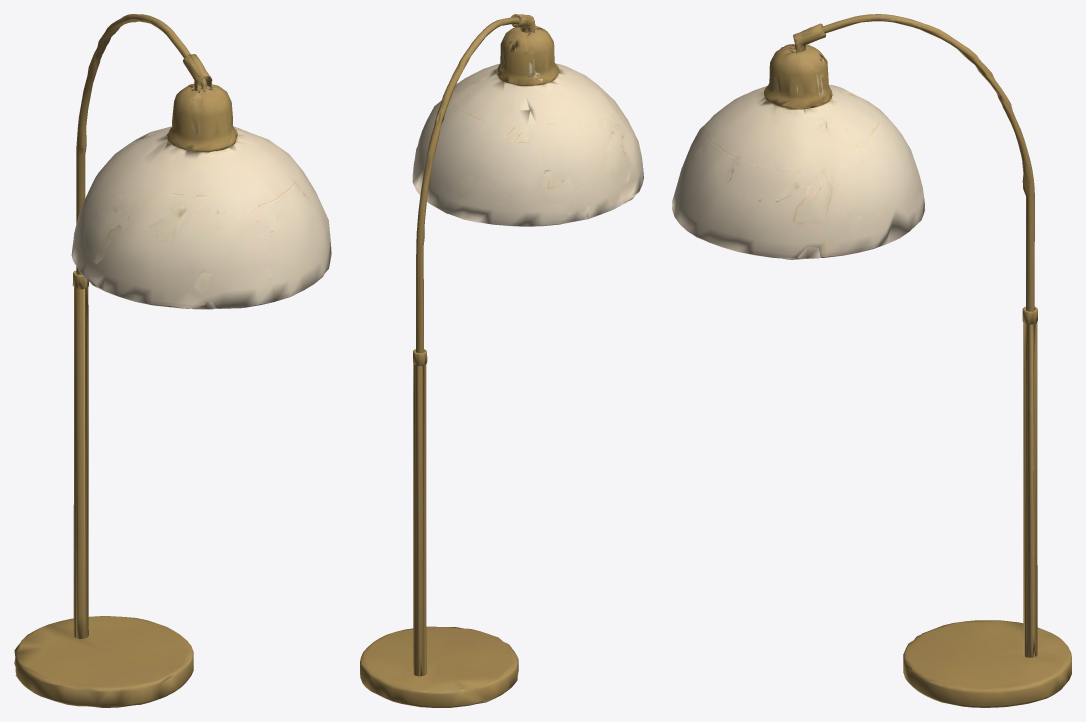
Rendered from desk_lamp_brass.glb.
The picture shows the model from 3 angles, left to right: view 1: azimuth 30°, elevation 25°; view 2: azimuth 150°, elevation 25°; view 3: azimuth 270°, elevation 25°; orthographic projection. The views are drawn at different scales.
Parts seen in each view (by area): view 1: prop; view 2: prop; view 3: prop.
Part boxes in pixels (x1,y1,x2,y2): prop: [14, 14, 331, 707]; prop: [360, 14, 643, 707]; prop: [672, 14, 1071, 707].
Bounding box in the file's own units: 0.5534 × 1.6 × 0.8806.
1 material, 1 textured.
